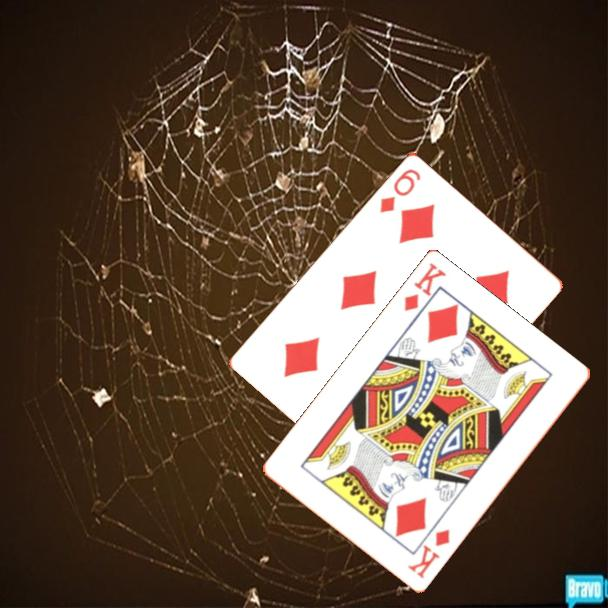d06: (376, 165, 423, 216)
d13: (404, 526, 453, 582), (400, 259, 449, 315)
